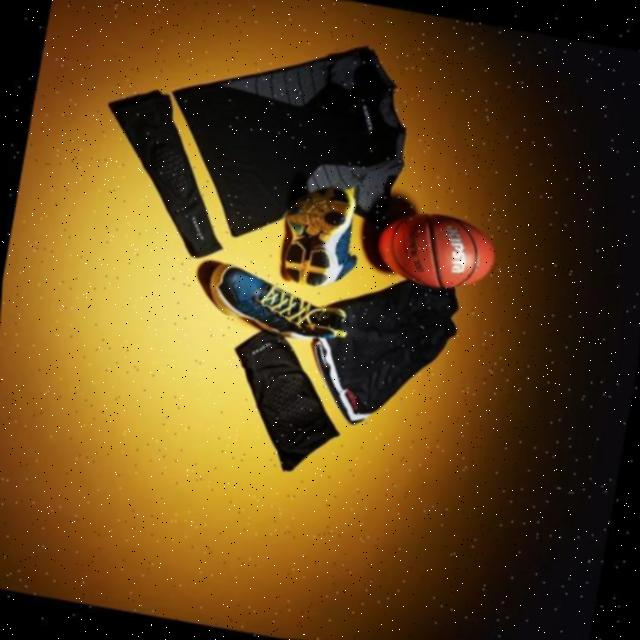ball: (370, 204, 504, 297)
